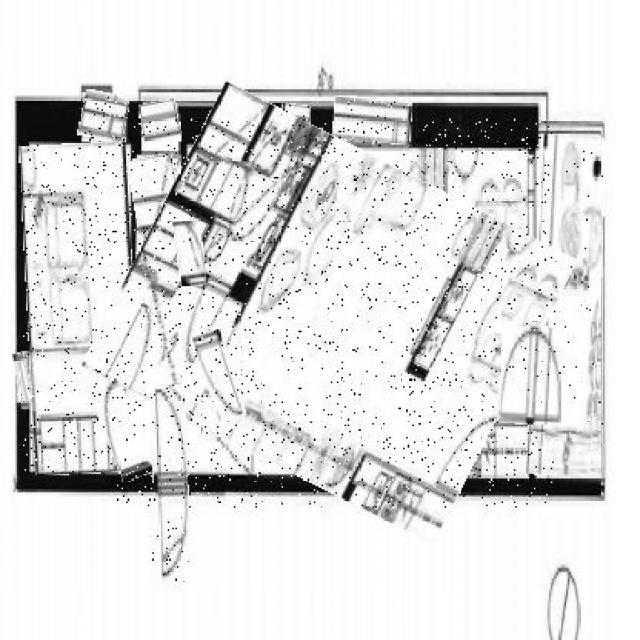door: (108, 119, 552, 508), (23, 144, 139, 473), (531, 136, 603, 476), (174, 140, 260, 334), (132, 156, 186, 278)
window: (153, 386, 190, 583), (498, 326, 564, 423), (97, 378, 145, 482), (198, 331, 240, 422), (176, 220, 204, 286)
zone: (334, 97, 412, 143), (80, 92, 128, 142), (140, 100, 180, 146), (278, 104, 311, 148), (212, 99, 235, 144), (14, 352, 31, 403)
